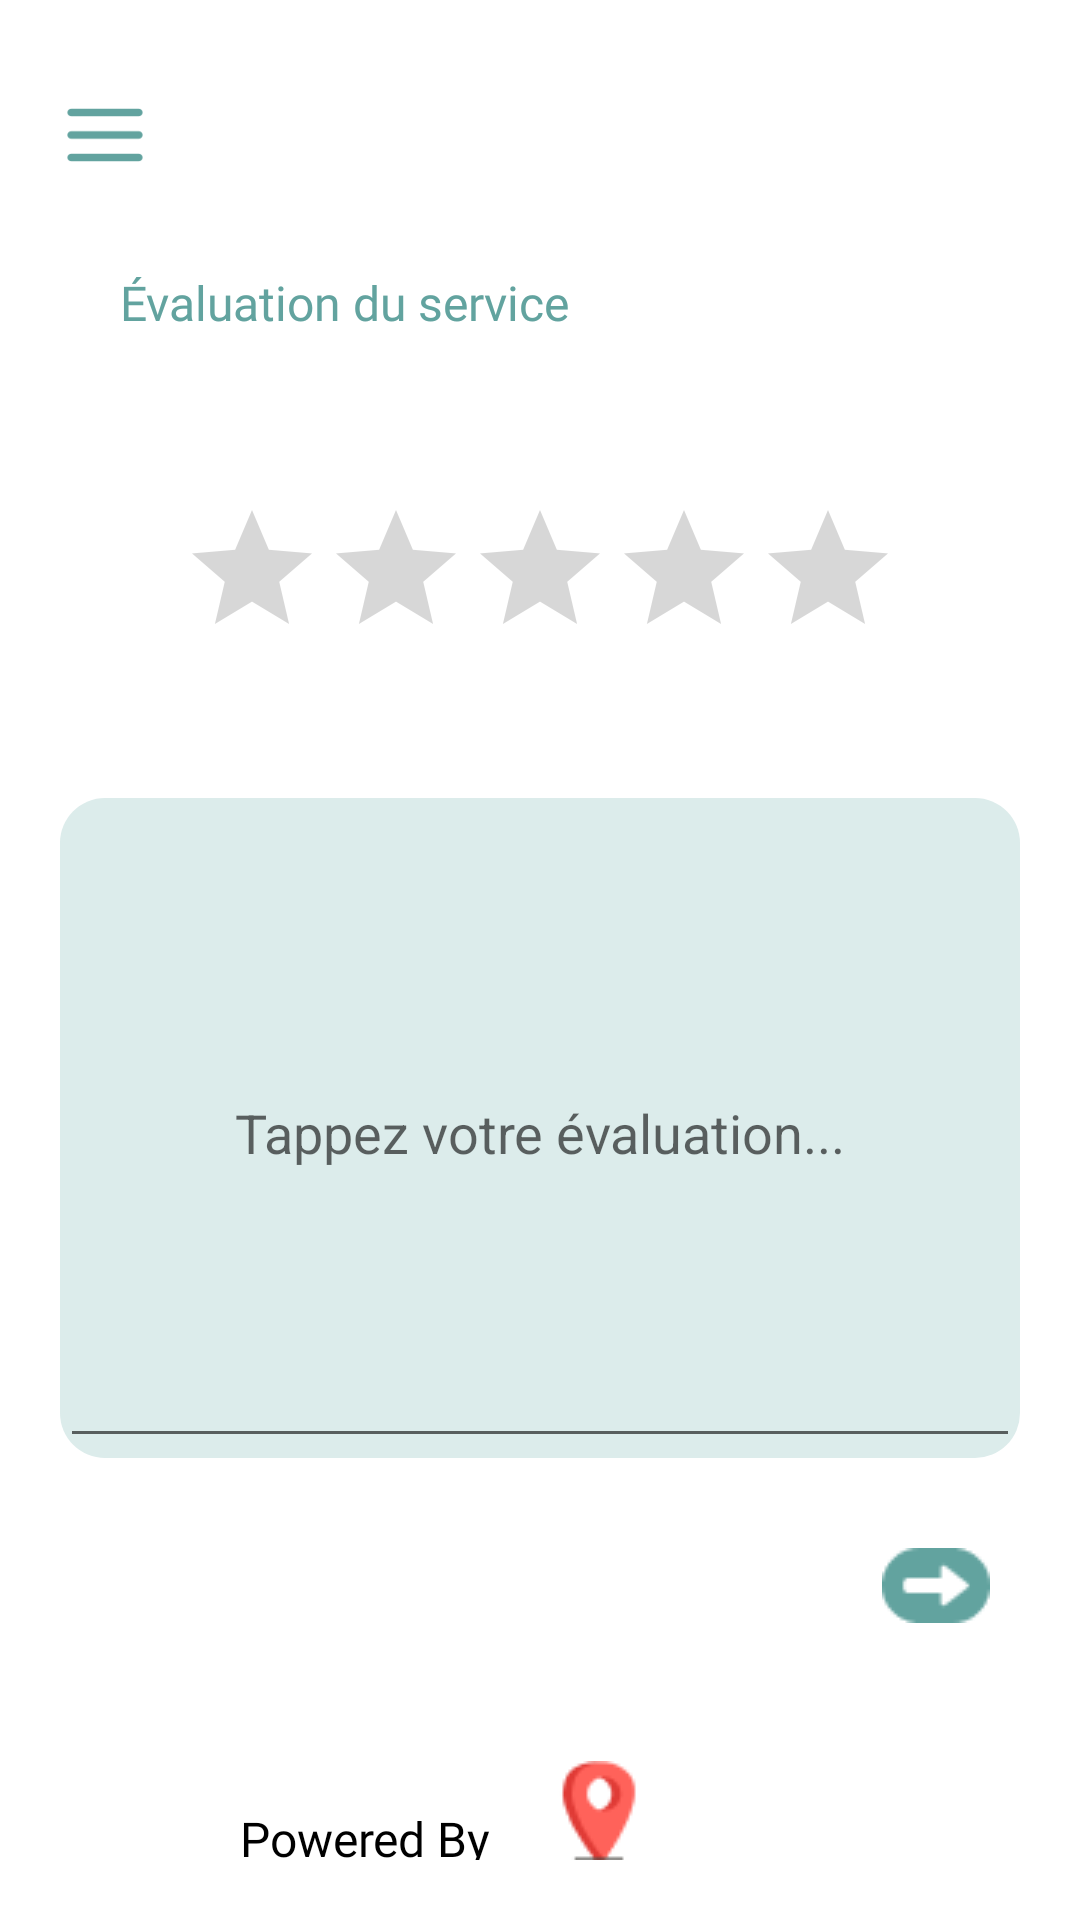

Named icons in this screenshot (1080w x 1920h) and their bounding boxes, (x1, y1, x2, y2):
local: (562, 1761, 636, 1860)
menu: (67, 108, 143, 162)
